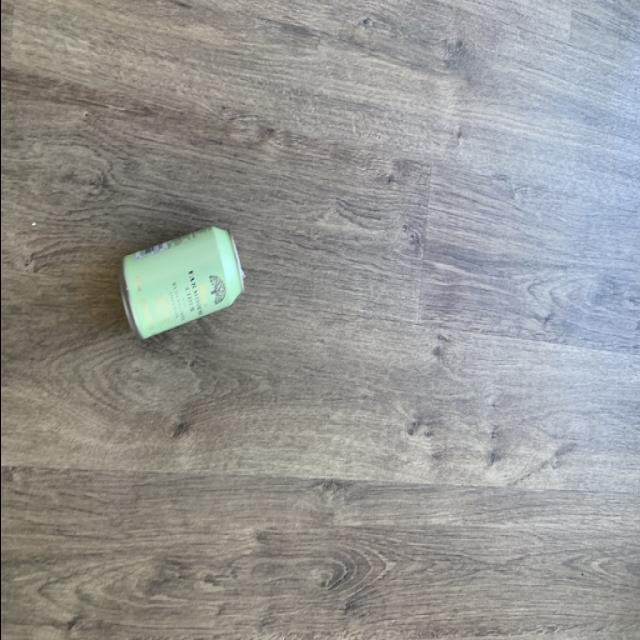Aluminum Can: (115, 216, 246, 352)
